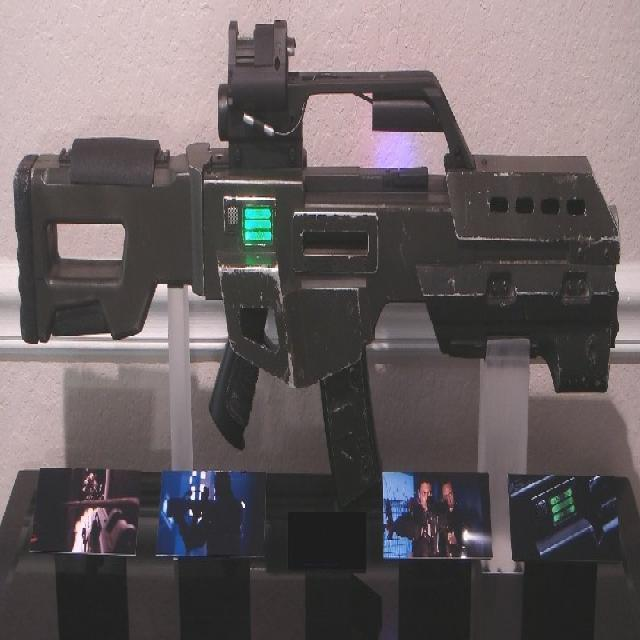weapon: (12, 15, 623, 516)
